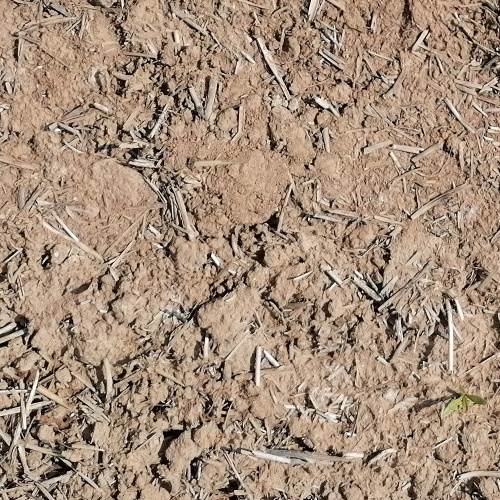beet: (442, 385, 485, 419)
